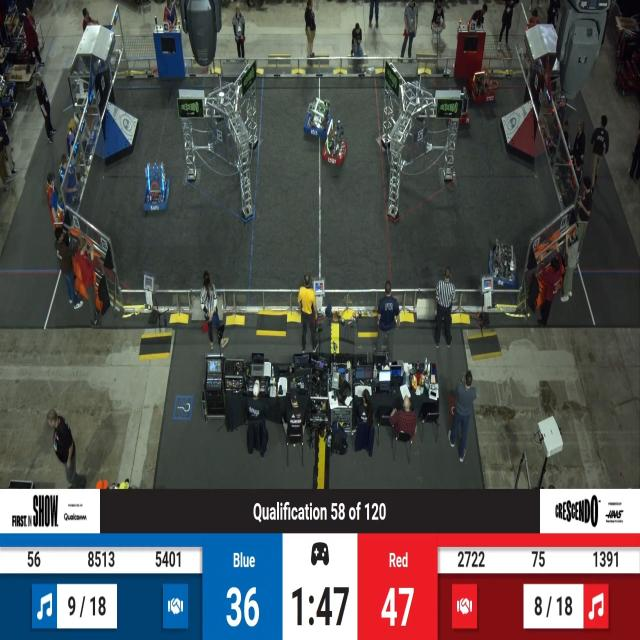Robot: (484, 234, 521, 292), (142, 159, 170, 214), (324, 115, 351, 168), (304, 95, 333, 140), (469, 66, 500, 107), (446, 86, 472, 132)
